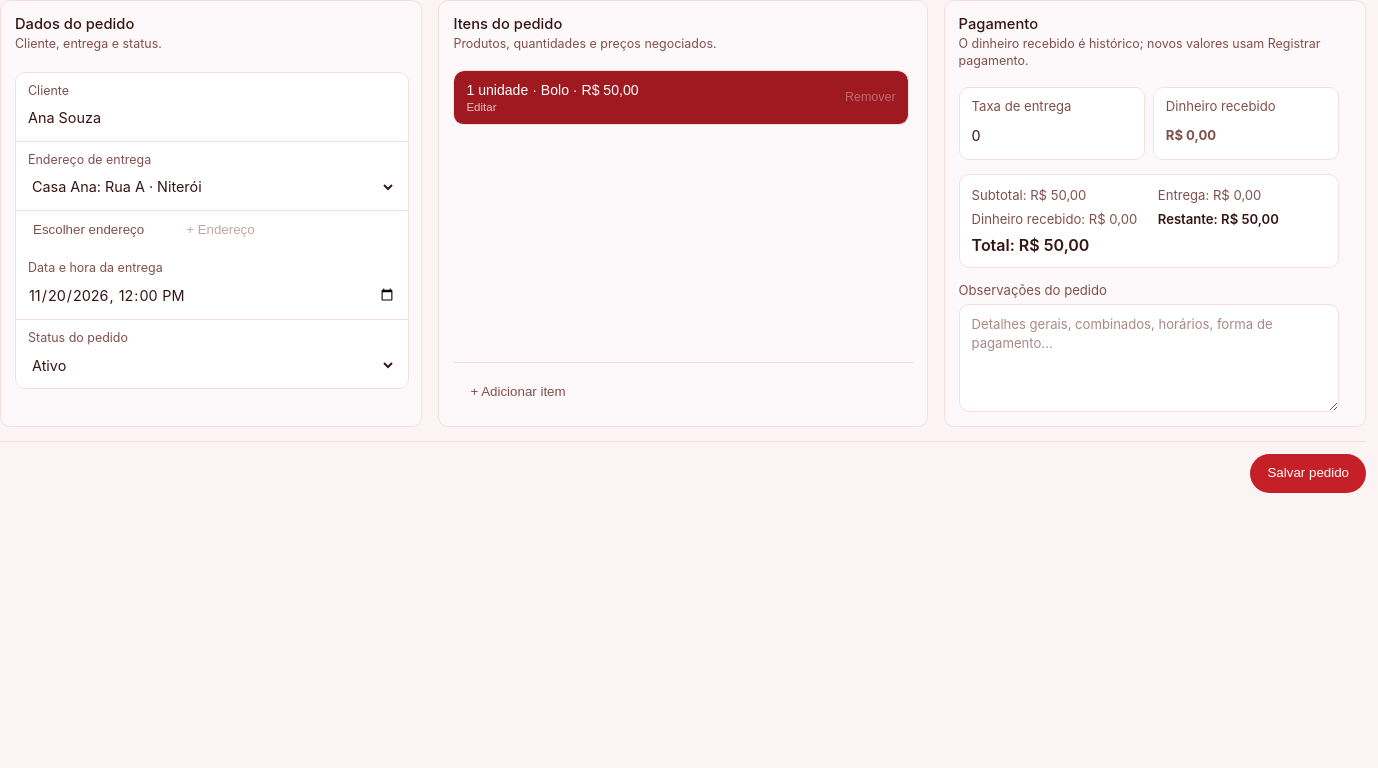
Test case: OrderForm client autocomplete › searches contacts and supports selecting a suggestion from the keyboard
Replace the text in the dropdown labelled "Cliente" with "22999990000" at (212, 118), box [28,105,396,131]
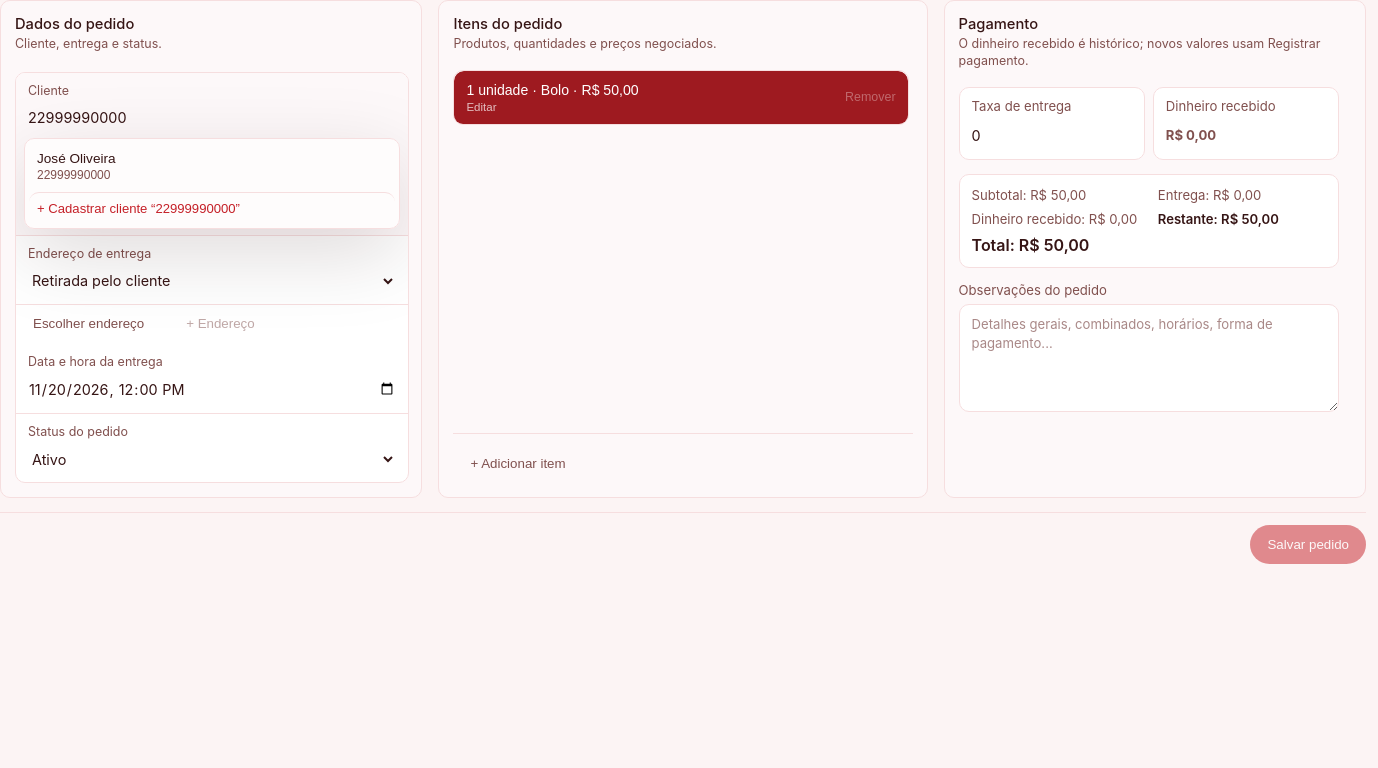
Check: the option "José Oliveira 22999990000" is shown, box [29,143,395,190]
Press Arrowdown Enter
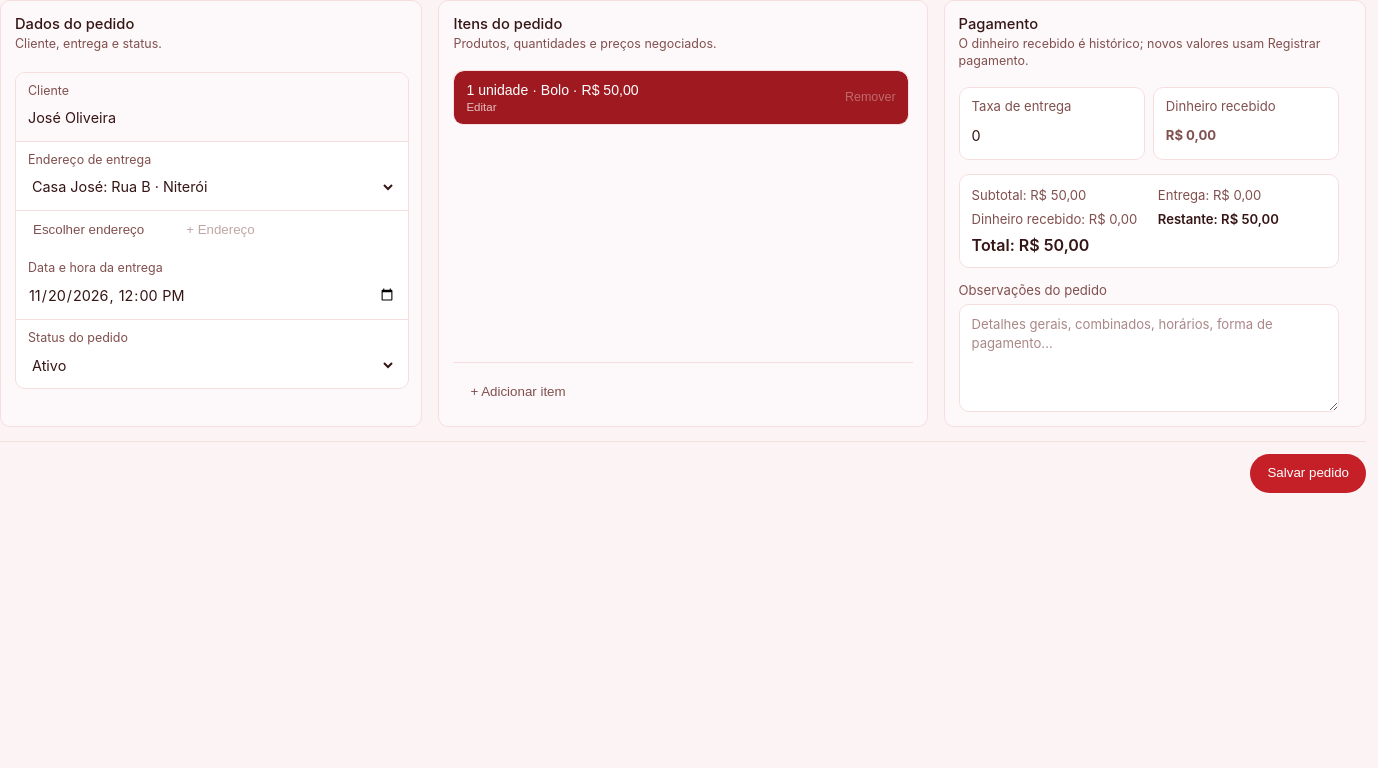
Check: the dropdown labelled "Cliente" holds "José Oliveira", box [28,105,396,131]
